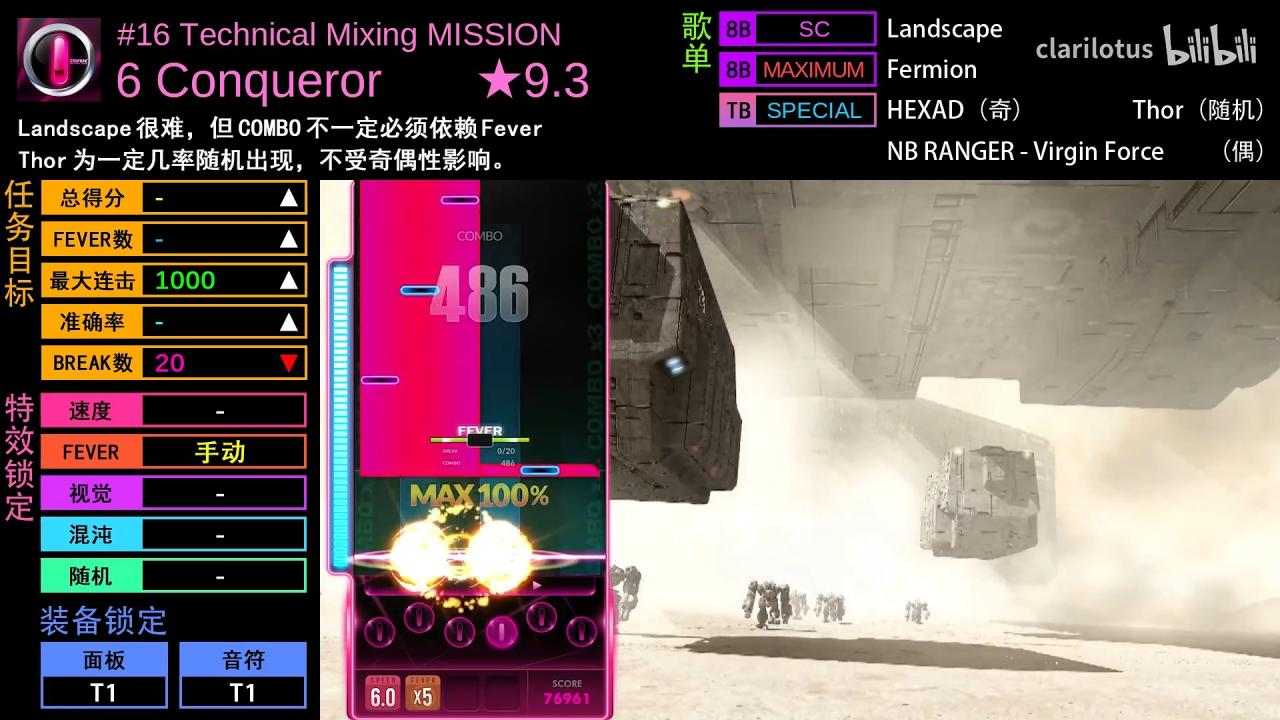note: (399, 284, 441, 297), (440, 195, 480, 206), (361, 375, 400, 386), (520, 465, 560, 475)
xnote: (480, 464, 600, 477)
xstart: (359, 464, 480, 476)
